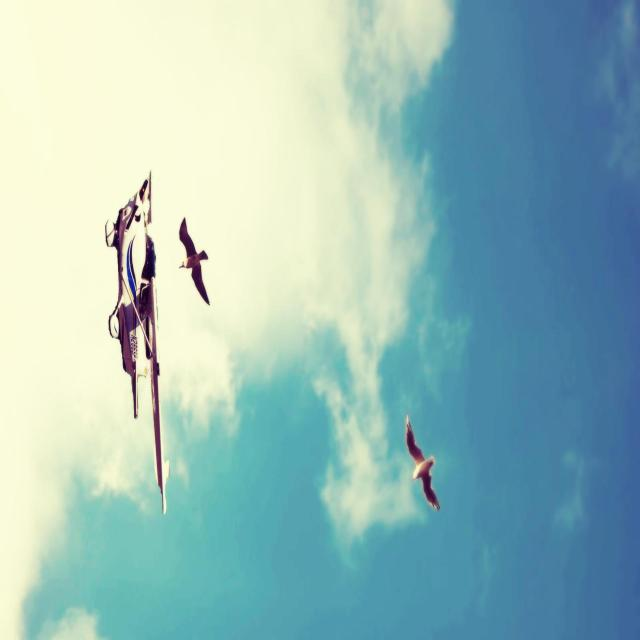airplane: (104, 168, 170, 514), (405, 413, 440, 510)
